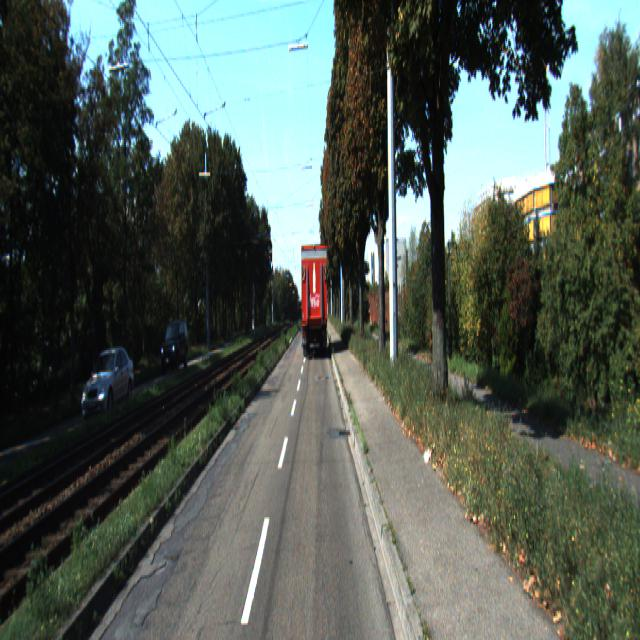Car: (80, 342, 135, 424), (299, 242, 329, 360), (159, 318, 189, 376)
